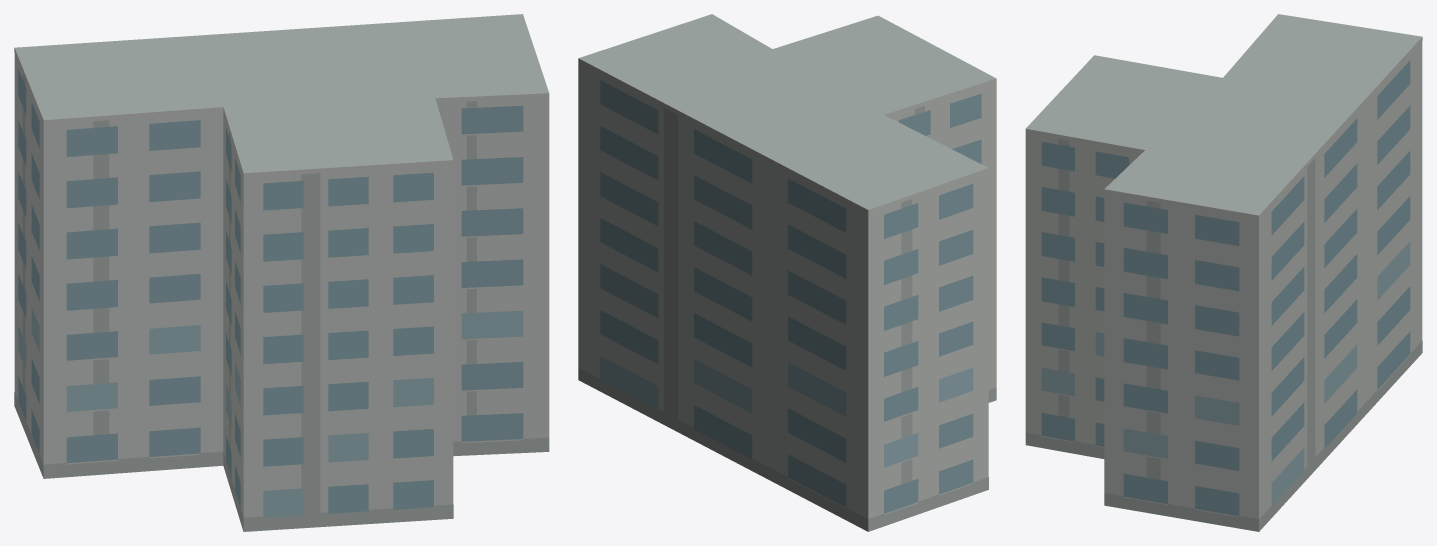
Rendered from survey-upis-32944961.glb.
3 renders of one model, left to right at view 1: azimuth 30°, elevation 25°; view 2: azimuth 150°, elevation 25°; view 3: azimuth 270°, elevation 25°, orthographic. The views are drawn at different scales.
Parts seen in each view (by area): view 1: survey-upis-32944961.tmp; view 2: survey-upis-32944961.tmp; view 3: survey-upis-32944961.tmp.
Part boxes in pixels (x1,y1,x2,y2): survey-upis-32944961.tmp: (14, 14, 549, 531); survey-upis-32944961.tmp: (578, 14, 996, 531); survey-upis-32944961.tmp: (1025, 14, 1422, 531).
Bounding box in the file's own units: 25.7 × 18.8 × 21.39.
